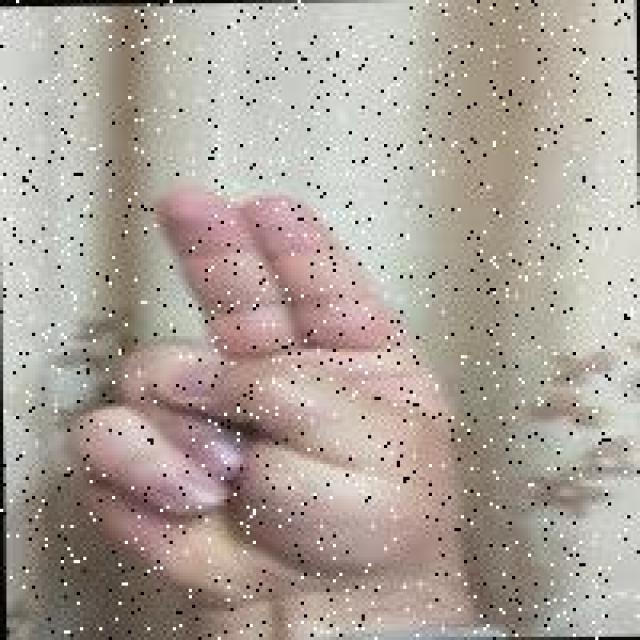U: (46, 160, 469, 614)
